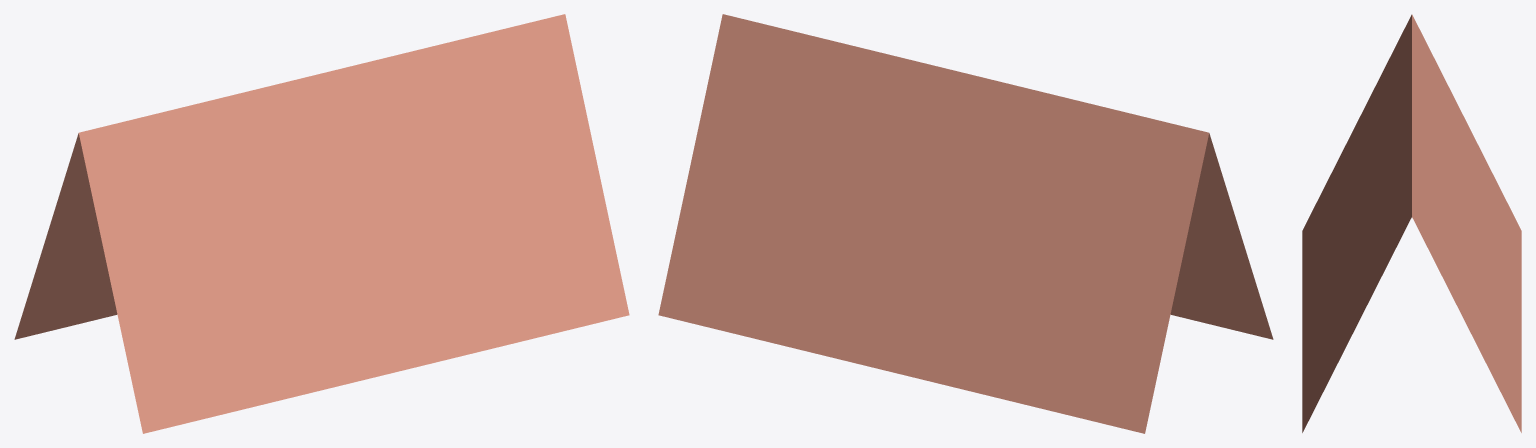
File: SP_House10_Roof02.fbx
The picture shows the model from 3 angles, left to right: view 1: azimuth 30°, elevation 25°; view 2: azimuth 150°, elevation 25°; view 3: azimuth 270°, elevation 25°; orthographic projection. The views are drawn at different scales.
Visible parts, largest first — view 1: SP_House10_Roof02; view 2: SP_House10_Roof02; view 3: SP_House10_Roof02.
Boxes of the visible parts, bbox=[...] form: SP_House10_Roof02: bbox=[14, 14, 629, 433]; SP_House10_Roof02: bbox=[658, 14, 1273, 433]; SP_House10_Roof02: bbox=[1302, 14, 1521, 432].
Size of the model in its own units: 21.29 by 10.63 by 9.74.
